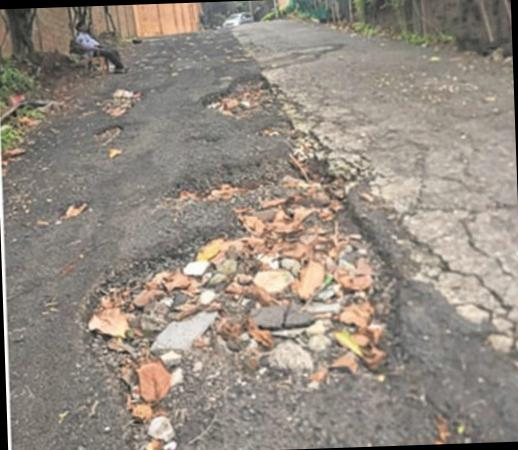pothole: (61, 143, 449, 439), (192, 62, 304, 135), (87, 76, 144, 125), (70, 114, 144, 149)
